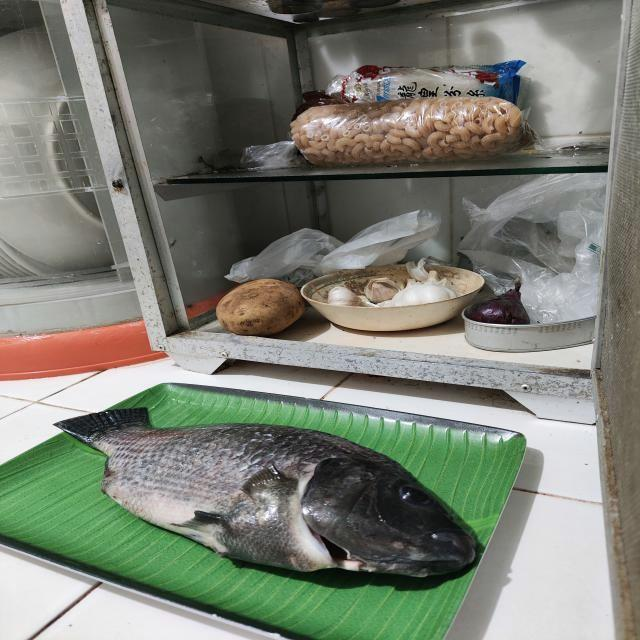fish: (55, 406, 479, 577), (216, 277, 303, 338)
garlic: (327, 267, 455, 306)
onion: (465, 290, 532, 327)
